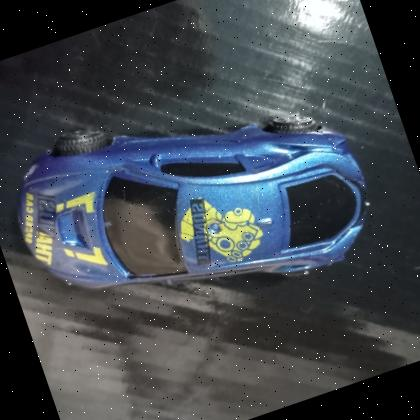Car: (14, 122, 368, 288)
